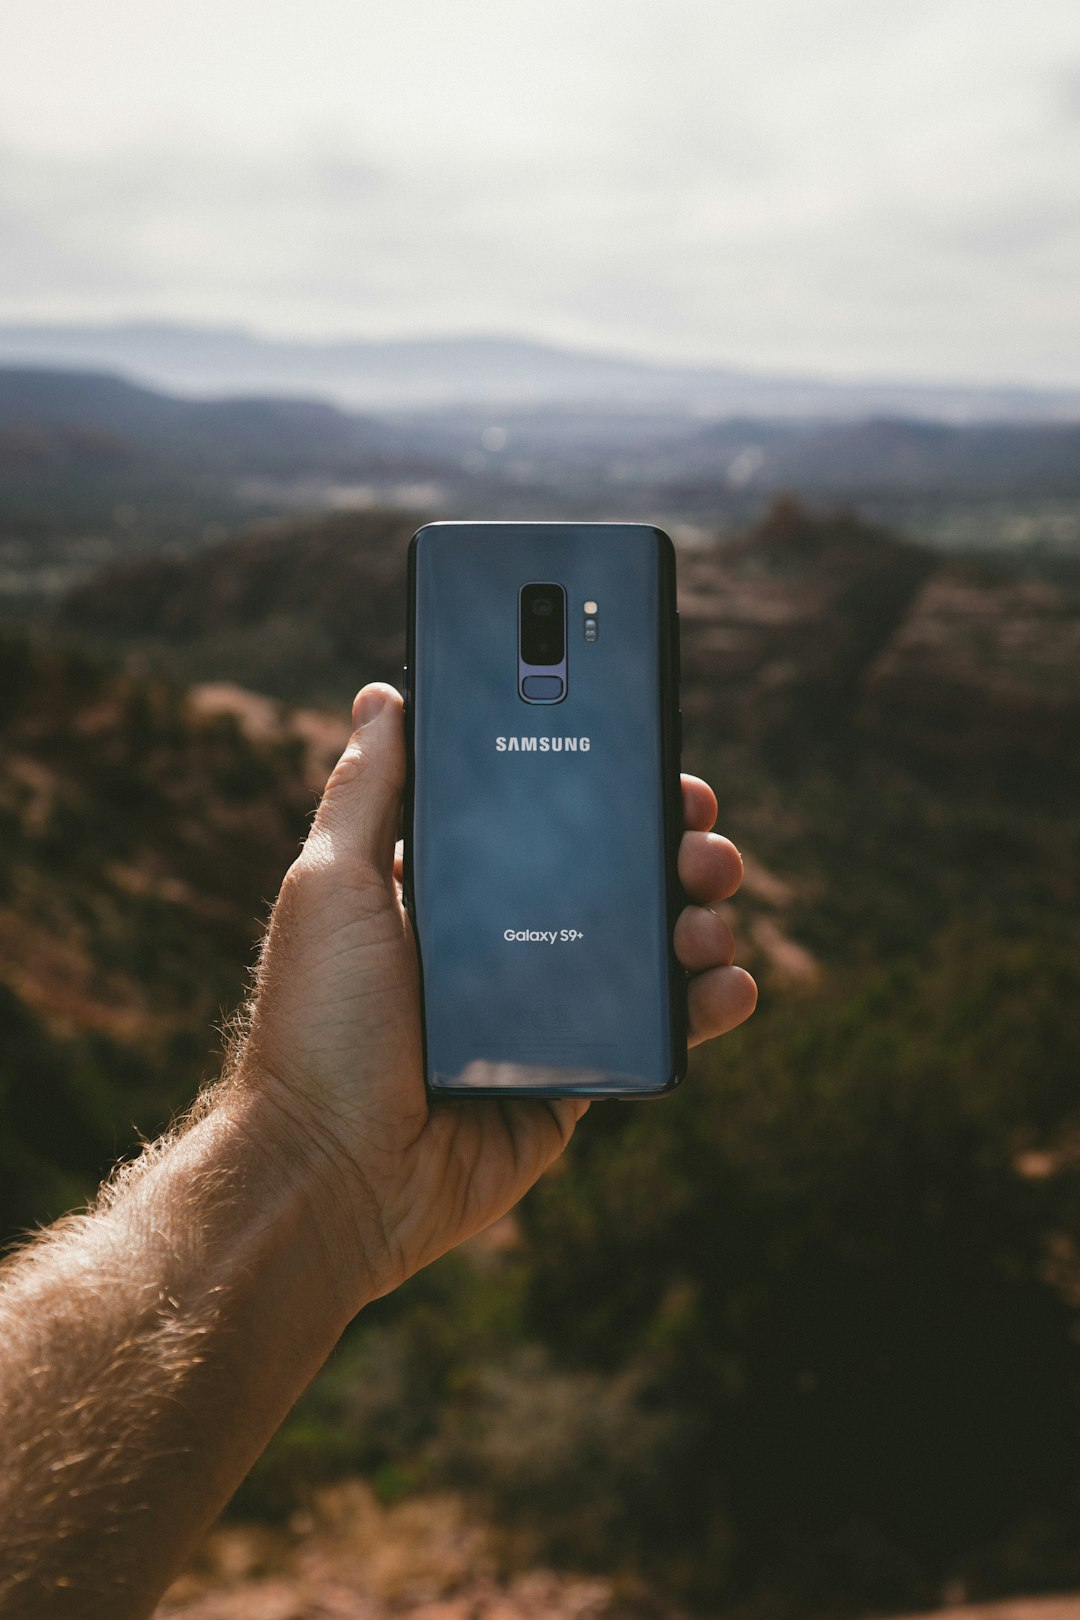phone: (404, 516, 691, 1107)
